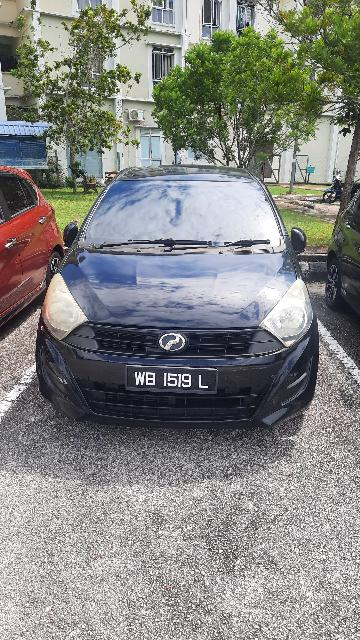License_Plate: (123, 360, 224, 399)
car: (34, 161, 325, 436)
